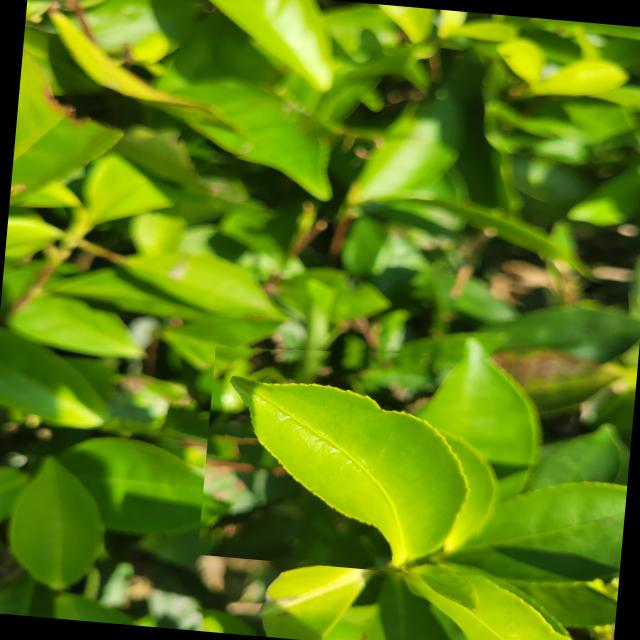Catagory A(1-2 days): (197, 332, 495, 579)
